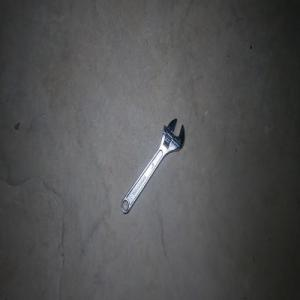Wrench: (121, 118, 184, 214)
